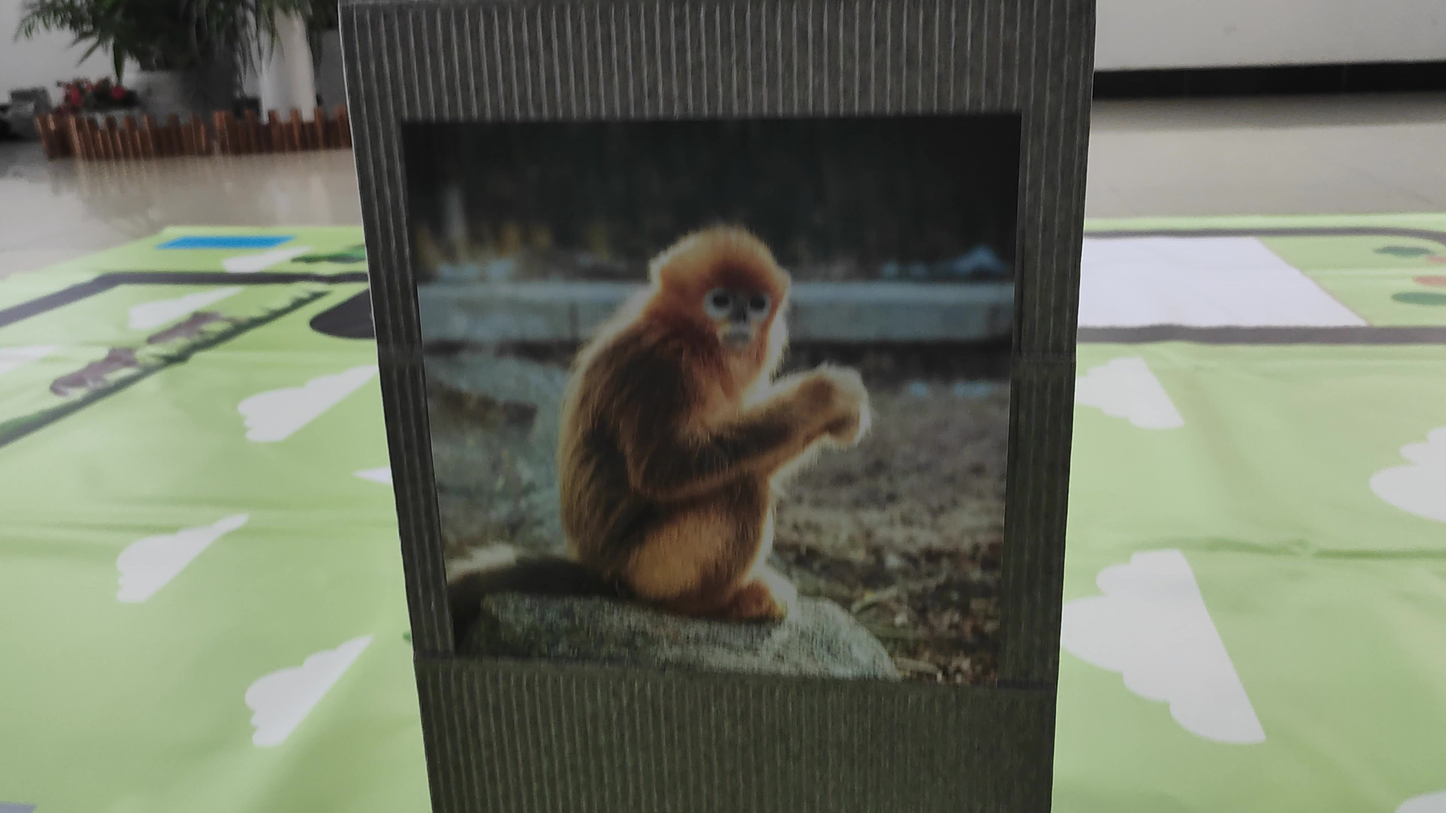monkey: (515, 215, 911, 633)
